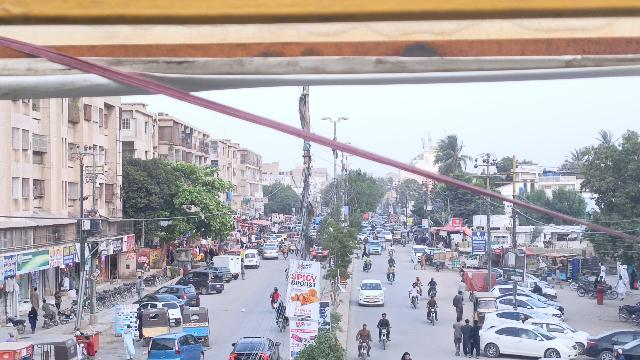Bike: (377, 326, 392, 351), (357, 338, 374, 359), (427, 306, 439, 327), (275, 316, 289, 333), (409, 294, 422, 310), (428, 286, 439, 299), (387, 271, 397, 285), (271, 299, 280, 311)
Car: (479, 324, 579, 359), (583, 326, 637, 360), (144, 333, 206, 360), (227, 333, 281, 360), (176, 269, 226, 295), (355, 278, 387, 309)
Person: (118, 322, 139, 360), (447, 314, 464, 357), (469, 317, 483, 357), (459, 316, 472, 358), (28, 304, 39, 334), (356, 322, 372, 341), (377, 312, 391, 330), (407, 282, 421, 296), (276, 300, 287, 316), (426, 295, 439, 308), (386, 262, 398, 273), (271, 287, 280, 301), (428, 275, 438, 287)
Rickshaw: (179, 305, 211, 346), (141, 306, 172, 345), (471, 293, 498, 324)
Truck: (212, 254, 241, 276)
